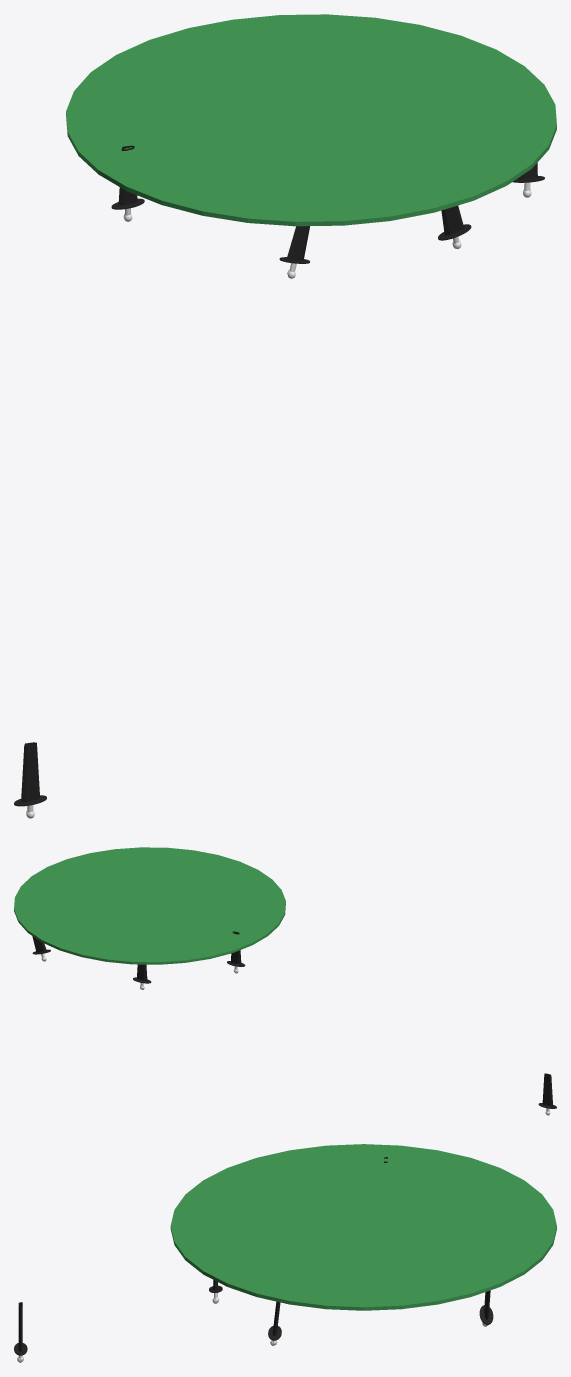
File: Sword.glb
3 views of the same model, one above another, from view 1: azimuth 30°, elevation 25°; view 2: azimuth 150°, elevation 25°; view 3: azimuth 270°, elevation 25° (orthographic). The views are drawn at different scales.
Visible parts, largest first — view 1: Cylinder.001, Cylinder; view 2: Cylinder.001, Cylinder; view 3: Cylinder.001, Cylinder, Cylinder.007, Cylinder.004.
Boxes of the visible parts, x1,y1,x2,y2 form: Cylinder.001: (66,14,556,226); Cylinder: (14,742,46,818); Cylinder.001: (14,847,285,964); Cylinder: (538,1073,556,1115); Cylinder.001: (170,1144,556,1310); Cylinder: (14,1302,27,1362); Cylinder.007: (268,1301,281,1345); Cylinder.004: (479,1290,493,1326).
Bounding box in the file's own units: 68.39 × 37.75 × 56.23.
